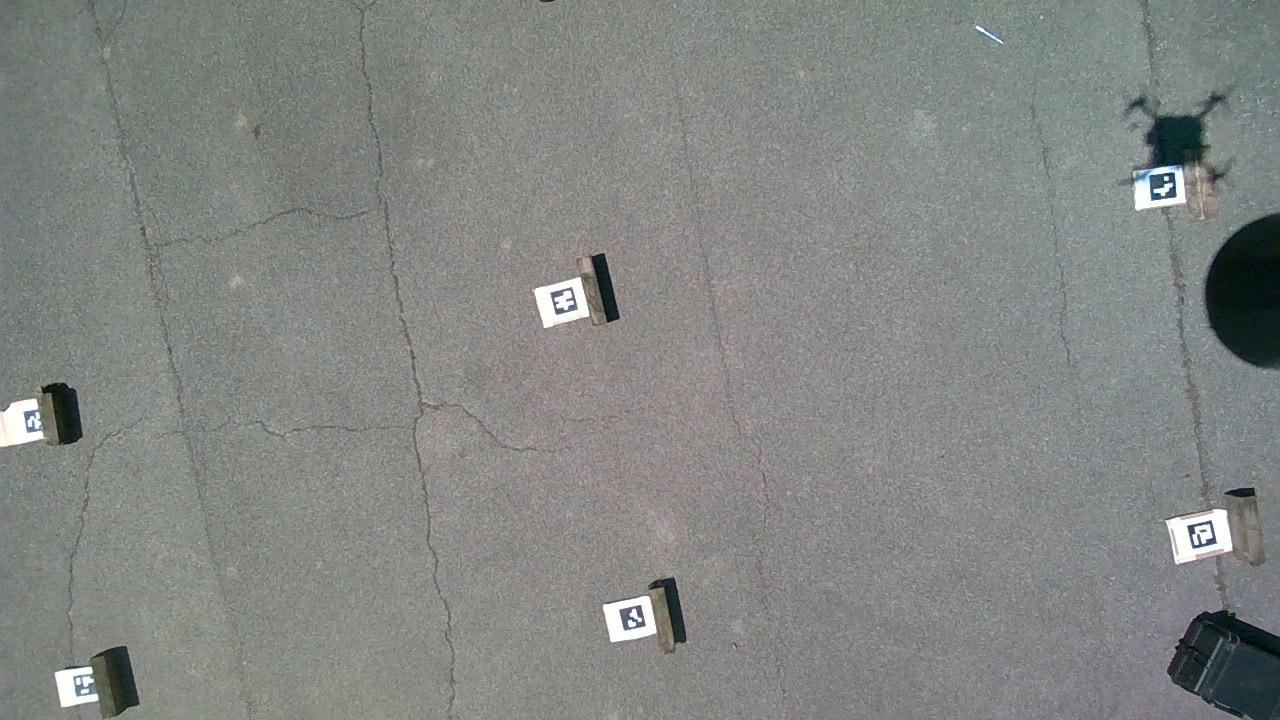probes: (974, 25, 1006, 45)
